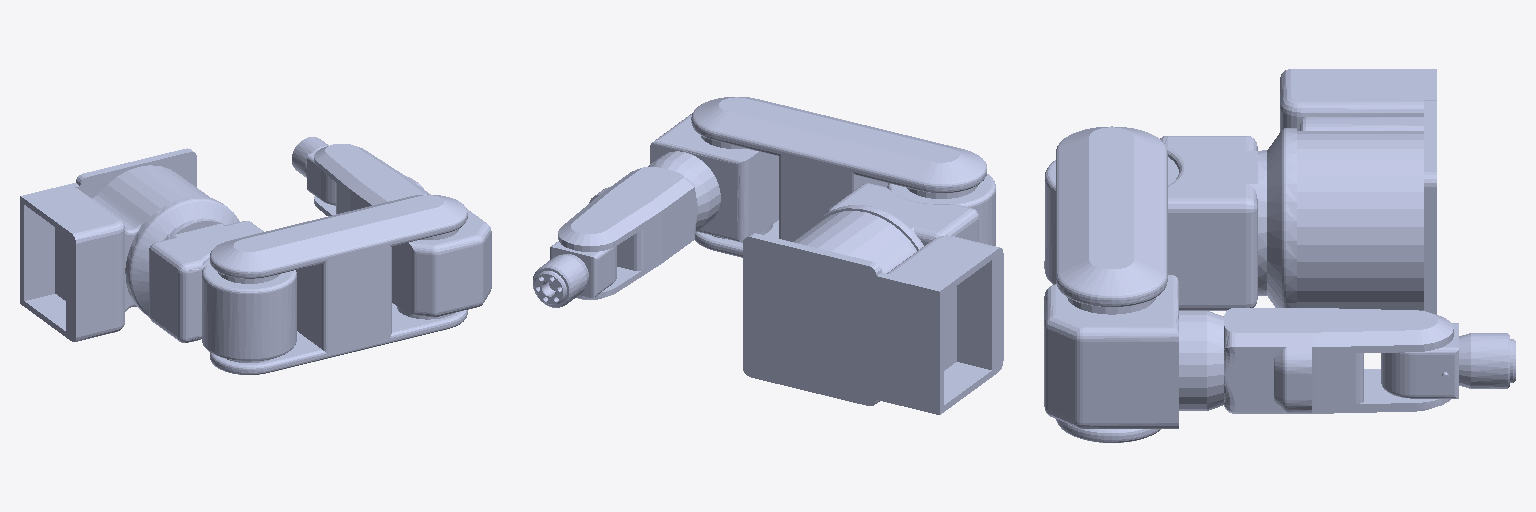
robot.urdf — URDF_file_2:
<?xml version="1.0" encoding="utf-8"?>
<!-- This URDF was automatically created by SolidWorks to URDF Exporter! Originally created by [author] ([email redacted]) 
     Commit Version: 1.5.1-0-g916b5db  Build Version: 1.5.7152.31018
     For more information, please see http://wiki.ros.org/sw_urdf_exporter -->
<robot
  name="URDF_file_2">
  <link
    name="base_link">
    <inertial>
      <origin
        xyz="-0.0506069949827857 -1.14363572841677E-07 0.0619008362342535"
        rpy="0 0 0" />
      <mass
        value="2.51495850931649" />
      <inertia
        ixx="0.0103832756520663"
        ixy="-1.74262384356617E-09"
        ixz="0.00157319608739744"
        iyy="0.0163429942434534"
        iyz="-1.23204755988797E-08"
        izz="0.0176888561819906" />
    </inertial>
    <visual>
      <origin
        xyz="0 0 0"
        rpy="0 0 0" />
      <geometry>
        <mesh
          filename="package://URDF_file_2/meshes/base_link.STL" />
      </geometry>
      <material
        name="">
        <color
          rgba="0.792156862745098 0.819607843137255 0.933333333333333 1" />
      </material>
    </visual>
    <collision>
      <origin
        xyz="0 0 0"
        rpy="0 0 0" />
      <geometry>
        <mesh
          filename="package://URDF_file_2/meshes/base_link.STL" />
      </geometry>
    </collision>
  </link>
  <link
    name="Link_1_sixdof">
    <inertial>
      <origin
        xyz="1.39246435361373E-15 0.138175207287114 -8.4738207703762E-14"
        rpy="0 0 0" />
      <mass
        value="3.9007787242109" />
      <inertia
        ixx="0.0276293584237025"
        ixy="9.7521213598593E-19"
        ixz="-1.49576433965979E-09"
        iyy="0.00933971406285462"
        iyz="8.93245474050774E-15"
        izz="0.0291792098708082" />
    </inertial>
    <visual>
      <origin
        xyz="0 0 0"
        rpy="0 0 0" />
      <geometry>
        <mesh
          filename="package://URDF_file_2/meshes/Link_1_sixdof.STL" />
      </geometry>
      <material
        name="">
        <color
          rgba="0.792156862745098 0.819607843137255 0.933333333333333 1" />
      </material>
    </visual>
    <collision>
      <origin
        xyz="0 0 0"
        rpy="0 0 0" />
      <geometry>
        <mesh
          filename="package://URDF_file_2/meshes/Link_1_sixdof.STL" />
      </geometry>
    </collision>
  </link>
  <joint
    name="joint_1_sixdof"
    type="continuous">
    <origin
      xyz="0 -0.0499999999999985 0"
      rpy="0 0 3.14159265358979" />
    <parent
      link="base_link" />
    <child
      link="Link_1_sixdof" />
    <axis
      xyz="0 1 0" />
    <limit
      lower="0"
      upper="0"
      effort="0"
      velocity="0" />
  </joint>
  <link
    name="Link_2_sixdof">
    <inertial>
      <origin
        xyz="0.129995053676744 -3.21171147454891E-08 -0.00025041386369764"
        rpy="0 0 0" />
      <mass
        value="2.97190444581255" />
      <inertia
        ixx="0.0114204057525842"
        ixy="1.17304404848484E-08"
        ixz="3.81761314295112E-09"
        iyy="0.0298998821164193"
        iyz="2.39017633320791E-11"
        izz="0.0225536721538333" />
    </inertial>
    <visual>
      <origin
        xyz="0 0 0"
        rpy="0 0 0" />
      <geometry>
        <mesh
          filename="package://URDF_file_2/meshes/Link_2_sixdof.STL" />
      </geometry>
      <material
        name="">
        <color
          rgba="0.792156862745098 0.819607843137255 0.933333333333333 1" />
      </material>
    </visual>
    <collision>
      <origin
        xyz="0 0 0"
        rpy="0 0 0" />
      <geometry>
        <mesh
          filename="package://URDF_file_2/meshes/Link_2_sixdof.STL" />
      </geometry>
    </collision>
  </link>
  <joint
    name="joint_2_sixdof"
    type="continuous">
    <origin
      xyz="0 0.239999999999982 0"
      rpy="3.14159265358979 0 3.14159265358979" />
    <parent
      link="Link_1_sixdof" />
    <child
      link="Link_2_sixdof" />
    <axis
      xyz="0 0 1" />
    <limit
      lower="0"
      upper="0"
      effort="0"
      velocity="0" />
  </joint>
  <link
    name="Link_3_sixdof">
    <inertial>
      <origin
        xyz="0.0151091396531827 1.31918981676818E-08 0.00053080184327442"
        rpy="0 0 0" />
      <mass
        value="1.21034790267616" />
      <inertia
        ixx="0.00222418673786187"
        ixy="-2.9841140750966E-11"
        ixz="-1.64350828599202E-05"
        iyy="0.00275952209791723"
        iyz="6.62153778562464E-10"
        izz="0.00232313783127098" />
    </inertial>
    <visual>
      <origin
        xyz="0 0 0"
        rpy="0 0 0" />
      <geometry>
        <mesh
          filename="package://URDF_file_2/meshes/Link_3_sixdof.STL" />
      </geometry>
      <material
        name="">
        <color
          rgba="0.792156862745098 0.819607843137255 0.933333333333333 1" />
      </material>
    </visual>
    <collision>
      <origin
        xyz="0 0 0"
        rpy="0 0 0" />
      <geometry>
        <mesh
          filename="package://URDF_file_2/meshes/Link_3_sixdof.STL" />
      </geometry>
    </collision>
  </link>
  <joint
    name="joint_3_sixdof"
    type="continuous">
    <origin
      xyz="0.259999999999975 0 0"
      rpy="1.5707963267949 0 0" />
    <parent
      link="Link_2_sixdof" />
    <child
      link="Link_3_sixdof" />
    <axis
      xyz="0 1 0" />
    <limit
      lower="0"
      upper="0"
      effort="0"
      velocity="0" />
  </joint>
  <link
    name="Link_4_sixdof">
    <inertial>
      <origin
        xyz="0.000947263677941901 -0.100717413381797 3.06160884371227E-09"
        rpy="0 0 0" />
      <mass
        value="1.19972958700246" />
      <inertia
        ixx="0.00495141922936999"
        ixy="1.47576253468213E-05"
        ixz="1.62163685479096E-09"
        iyy="0.00126268477088943"
        iyz="-1.89858985382678E-10"
        izz="0.00490627123657181" />
    </inertial>
    <visual>
      <origin
        xyz="0 0 0"
        rpy="0 0 0" />
      <geometry>
        <mesh
          filename="package://URDF_file_2/meshes/Link_4_sixdof.STL" />
      </geometry>
      <material
        name="">
        <color
          rgba="0.792156862745098 0.819607843137255 0.933333333333333 1" />
      </material>
    </visual>
    <collision>
      <origin
        xyz="0 0 0"
        rpy="0 0 0" />
      <geometry>
        <mesh
          filename="package://URDF_file_2/meshes/Link_4_sixdof.STL" />
      </geometry>
    </collision>
  </link>
  <joint
    name="joint_4_sixdof"
    type="continuous">
    <origin
      xyz="0.0305000000000504 0 0.0500000000000637"
      rpy="-1.5707963267949 0 0" />
    <parent
      link="Link_3_sixdof" />
    <child
      link="Link_4_sixdof" />
    <axis
      xyz="0 1 0" />
    <limit
      lower="0"
      upper="0"
      effort="0"
      velocity="0" />
  </joint>
  <link
    name="Link_5_sixdof">
    <inertial>
      <origin
        xyz="-1.67534207741182E-05 -2.95132488265696E-08 0.0214322182561447"
        rpy="0 0 0" />
      <mass
        value="0.27429658836353" />
      <inertia
        ixx="0.000286683873066818"
        ixy="1.95186751032465E-10"
        ixz="2.78932205905315E-08"
        iyy="0.000290337676931304"
        iyz="2.42601818266048E-12"
        izz="0.000123515546890888" />
    </inertial>
    <visual>
      <origin
        xyz="0 0 0"
        rpy="0 0 0" />
      <geometry>
        <mesh
          filename="package://URDF_file_2/meshes/Link_5_sixdof.STL" />
      </geometry>
      <material
        name="">
        <color
          rgba="0.792156862745098 0.819607843137255 0.933333333333333 1" />
      </material>
    </visual>
    <collision>
      <origin
        xyz="0 0 0"
        rpy="0 0 0" />
      <geometry>
        <mesh
          filename="package://URDF_file_2/meshes/Link_5_sixdof.STL" />
      </geometry>
    </collision>
  </link>
  <joint
    name="joint_5_sixdof"
    type="continuous">
    <origin
      xyz="0 -0.219999999999987 0"
      rpy="-1.5707963267949 0 3.14159265358979" />
    <parent
      link="Link_4_sixdof" />
    <child
      link="Link_5_sixdof" />
    <axis
      xyz="0 1 0" />
    <limit
      lower="0"
      upper="0"
      effort="0"
      velocity="0" />
  </joint>
  <link
    name="Link_6_sixdof">
    <inertial>
      <origin
        xyz="-1.52655665885959E-15 5.55111512312578E-17 -0.00750000000000051"
        rpy="0 0 0" />
      <mass
        value="0.0127506773833687" />
      <inertia
        ixx="1.71251618939208E-06"
        ixy="-1.45583787809333E-21"
        ixz="-2.6758892300575E-21"
        iyy="1.71251618939207E-06"
        iyz="1.38809697494579E-20"
        izz="2.97760528698337E-06" />
    </inertial>
    <visual>
      <origin
        xyz="0 0 0"
        rpy="0 0 0" />
      <geometry>
        <mesh
          filename="package://URDF_file_2/meshes/Link_6_sixdof.STL" />
      </geometry>
      <material
        name="">
        <color
          rgba="0.792156862745098 0.819607843137255 0.933333333333333 1" />
      </material>
    </visual>
    <collision>
      <origin
        xyz="0 0 0"
        rpy="0 0 0" />
      <geometry>
        <mesh
          filename="package://URDF_file_2/meshes/Link_6_sixdof.STL" />
      </geometry>
    </collision>
  </link>
  <joint
    name="joint_6_sixdof"
    type="continuous">
    <origin
      xyz="0 0 0.0749999999999912"
      rpy="3.14159265358979 0 -1.35772981694107" />
    <parent
      link="Link_5_sixdof" />
    <child
      link="Link_6_sixdof" />
    <axis
      xyz="0 0 1" />
  </joint>
</robot>

--- Render facts (derived) ---
The picture shows the robot from 3 angles, left to right: view 1: azimuth 30°, elevation 25°; view 2: azimuth 150°, elevation 25°; view 3: azimuth 270°, elevation 25°; orthographic projection.
Robot: URDF_file_2 — 7 links, 6 joints (6 continuous); root link base_link; default pose: all joints at 0.
Visible links, largest first — view 1: Link_2_sixdof, base_link, Link_1_sixdof, Link_3_sixdof, Link_4_sixdof, Link_5_sixdof; view 2: base_link, Link_2_sixdof, Link_4_sixdof, Link_3_sixdof, Link_1_sixdof, Link_5_sixdof, Link_6_sixdof; view 3: base_link, Link_4_sixdof, Link_1_sixdof, Link_2_sixdof, Link_3_sixdof, Link_5_sixdof.
Link boxes in pixels (x1,y1,x2,y2): Link_2_sixdof: (210,194,467,374); base_link: (20,148,209,341); Link_1_sixdof: (125,196,296,361); Link_3_sixdof: (392,209,491,317); Link_4_sixdof: (314,144,430,215); Link_5_sixdof: (292,137,335,205); base_link: (743,211,1003,414); Link_2_sixdof: (691,97,986,257); Link_4_sixdof: (558,151,720,299); Link_3_sixdof: (650,114,778,242); Link_1_sixdof: (811,174,995,250); Link_5_sixdof: (533,241,616,307); Link_6_sixdof: (534,271,566,304); base_link: (1280,69,1436,314); Link_4_sixdof: (1179,308,1453,413); Link_1_sixdof: (1044,128,1296,310); Link_2_sixdof: (1056,126,1167,442); Link_3_sixdof: (1044,275,1178,428); Link_5_sixdof: (1381,323,1509,398).
Bounding box of the posed robot: 0.5105 × 0.42 × 0.17 m (x, y, z).
Meshes: 7 distinct files referenced, 7 mesh visuals loaded (7 binary STL).